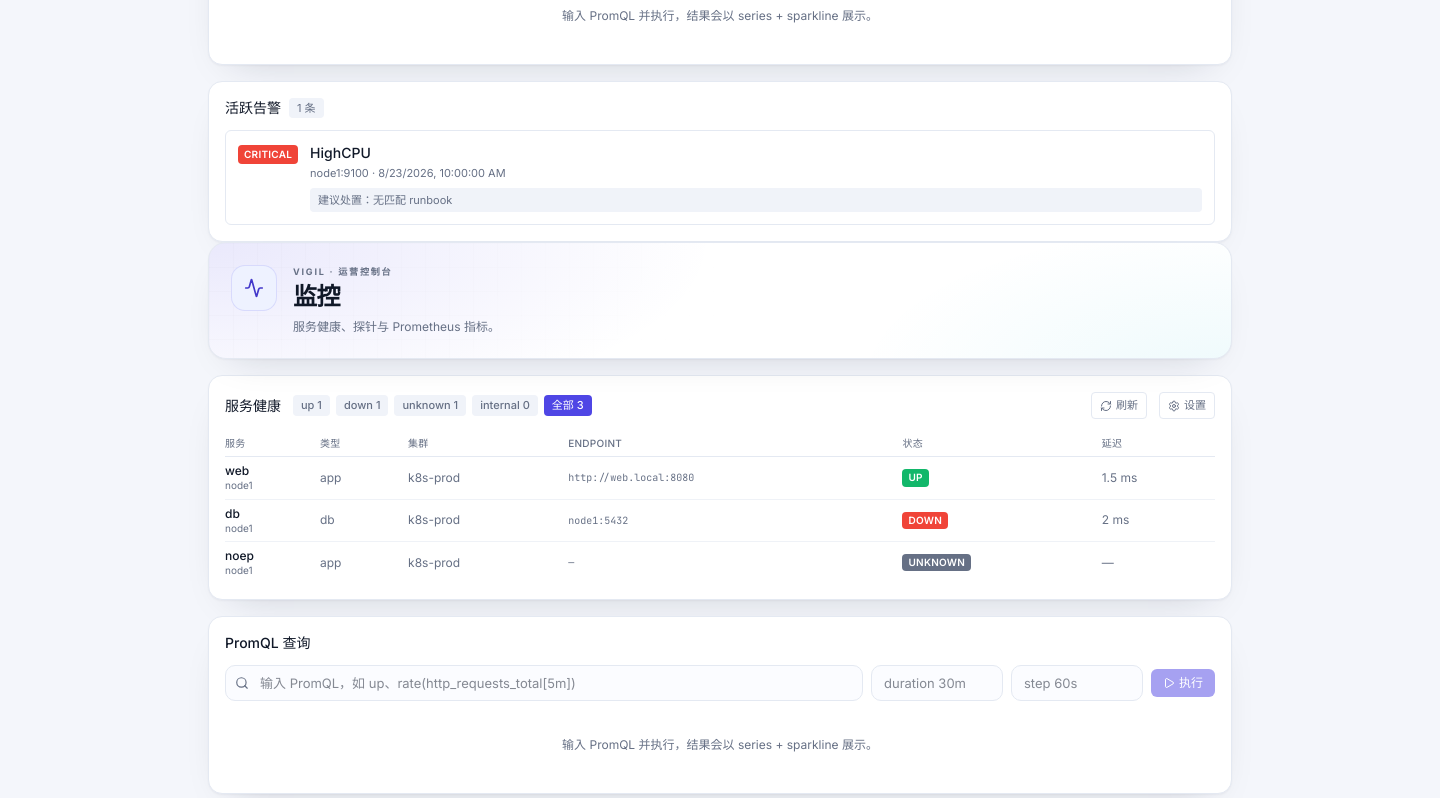
Test: MonitoringPage 连接测试（task31 PART A） › 测试按钮把当前表单值发给 /validate 并渲染逐目标 ✓ + 延迟
(page scrolled)
Click the button "设置" at (1187, 406), box [1159,392,1215,419]
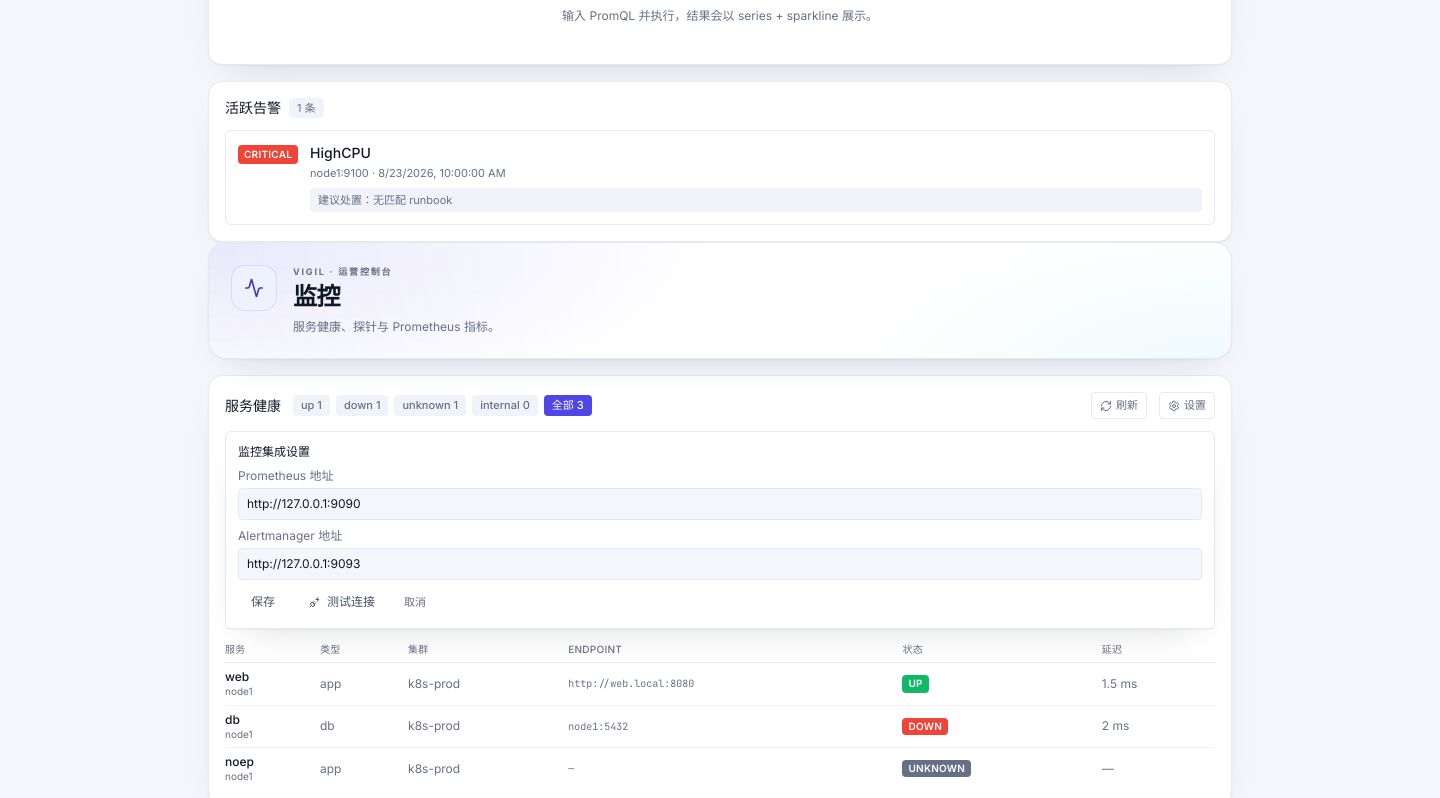
expect the button with test id "monitoring-test-connection" is shown: met
Click the button with test id "monitoring-test-connection" at (342, 602), box [296,588,388,616]
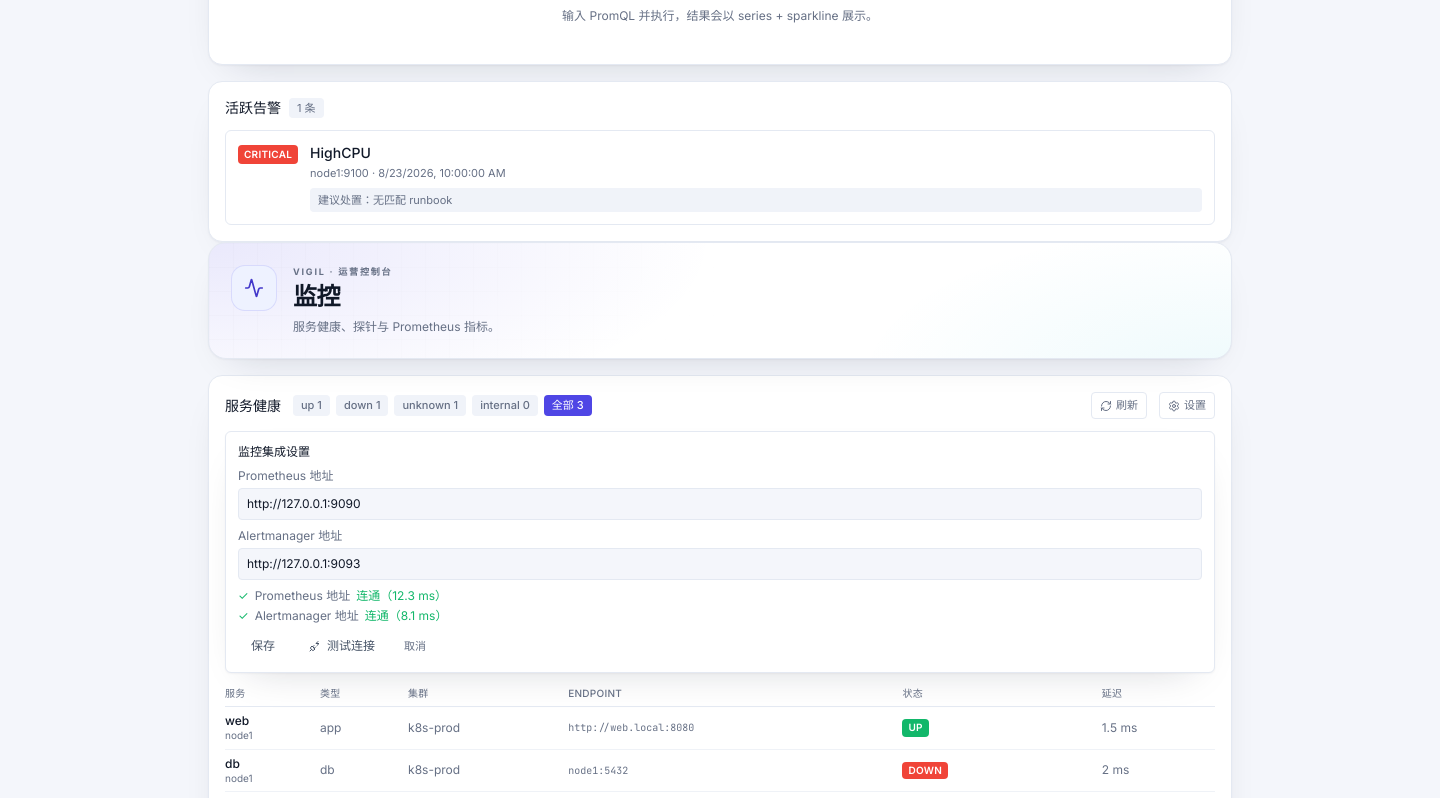
expect the element with test id "monitoring-validate-results" is shown: met, box [238,588,448,623]
expect the element with test id "monitoring-validate-results" shows "连通（12.3 ms）": met, box [356,588,447,603]
expect the element with test id "monitoring-validate-results" shows "连通（8.1 ms）": met, box [365,608,448,623]
